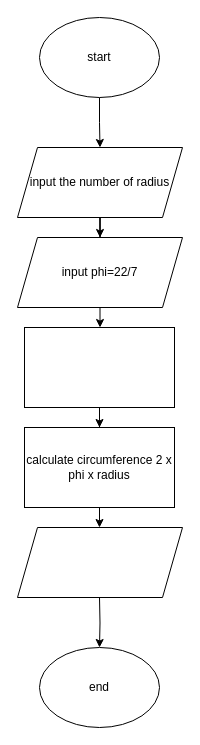
The diagram is 200 pixels wide and 745 high, and some of its shapes have lost their labels. The centre of each missing label's shape, as x and y in pixels:
"calculate area phi x radius x radius" belongs at [99,367].
"show result" belongs at [99,562].
